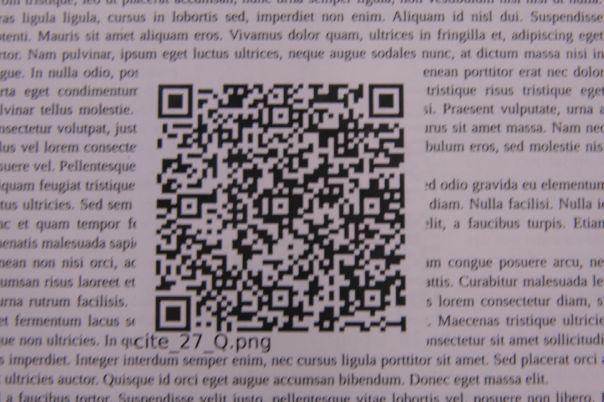Finder pattern: (149, 291, 194, 334), (365, 80, 407, 125), (154, 81, 198, 122)
